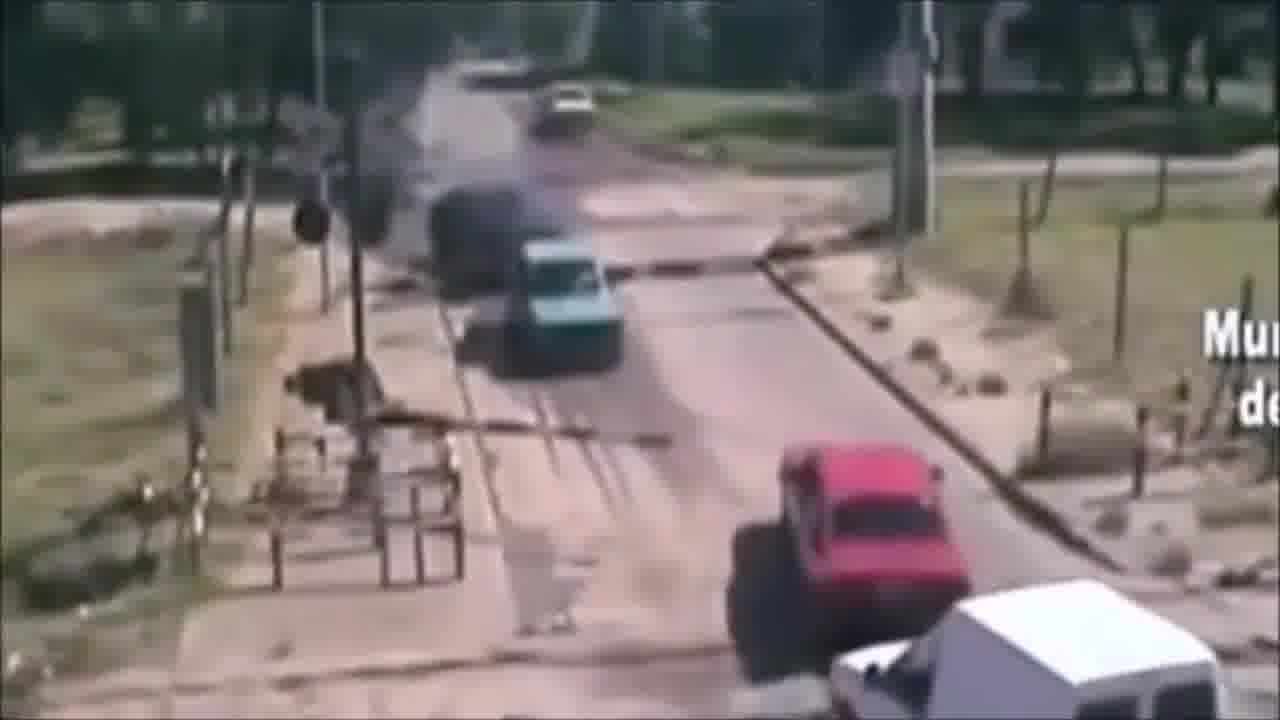crossing railway track: (758, 399, 1074, 720)
